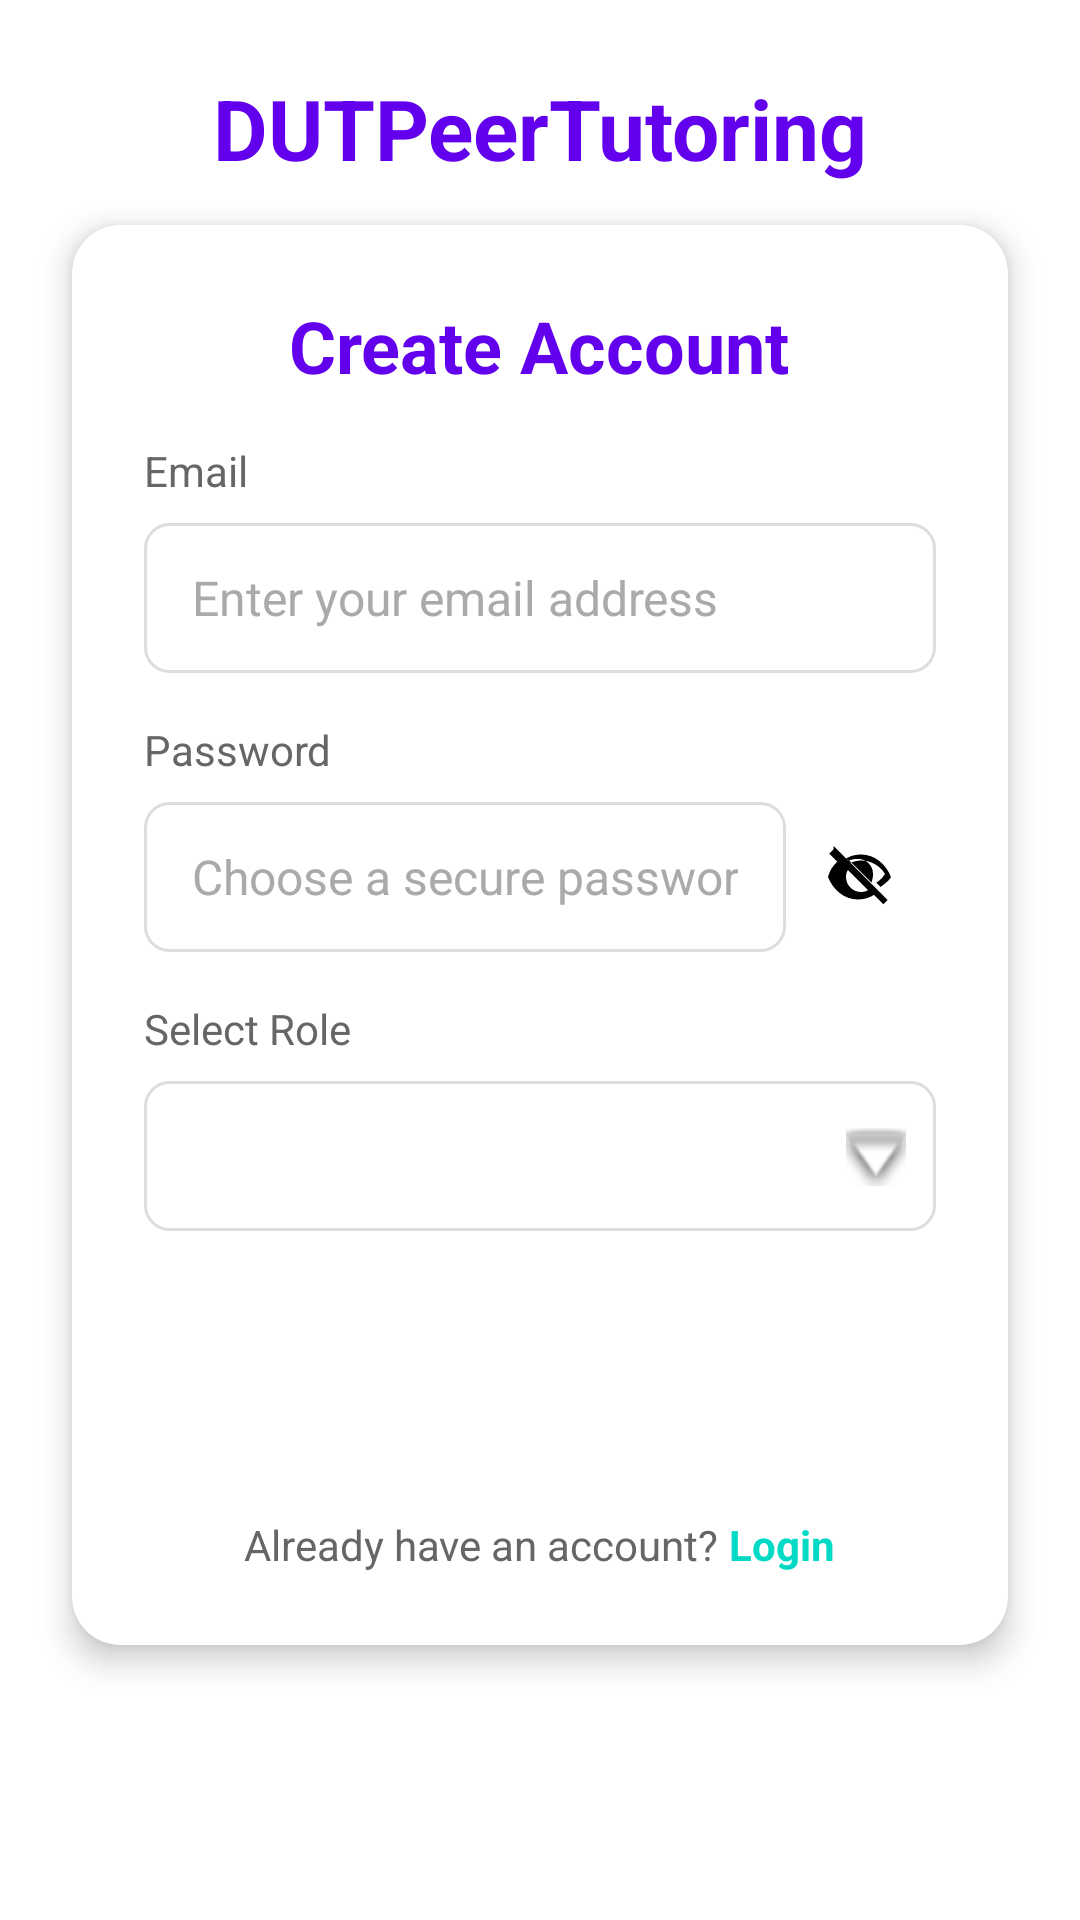

Locate icon controls on the screen. Image size 1080px×1920px, boxes as (x1, y1, x2, y2).
Toggle Password Visibility: (828, 846, 891, 904)
